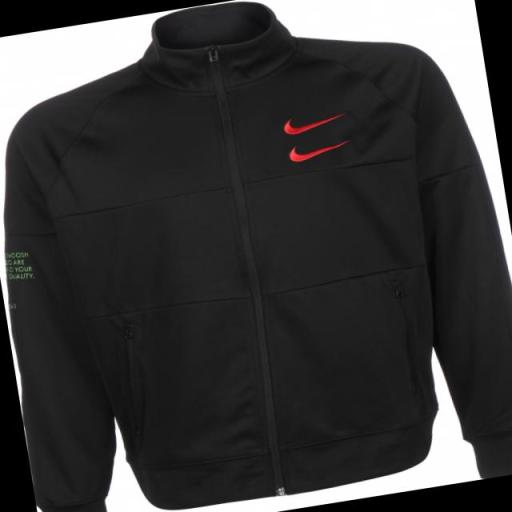Nike: (280, 109, 352, 142)
